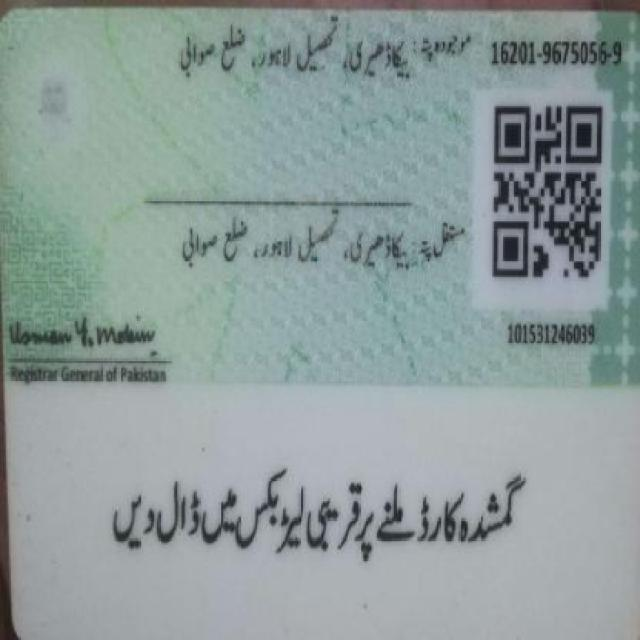Back: (4, 12, 634, 623)
